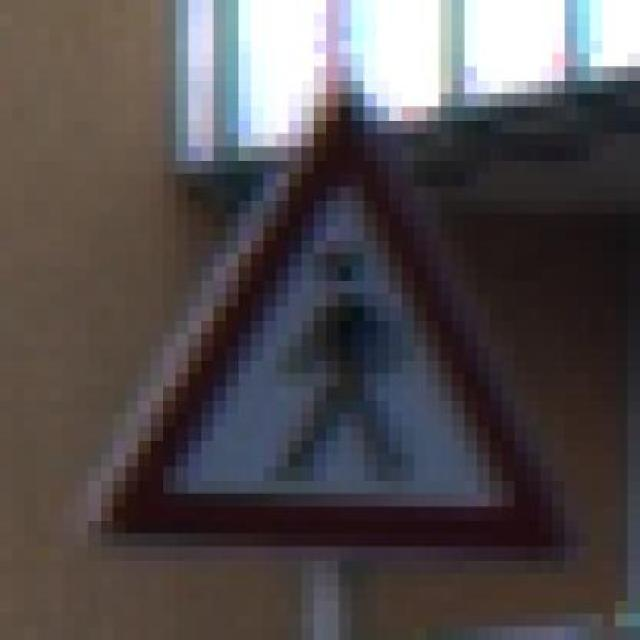Pedestrian Crossing: (88, 66, 564, 560)
